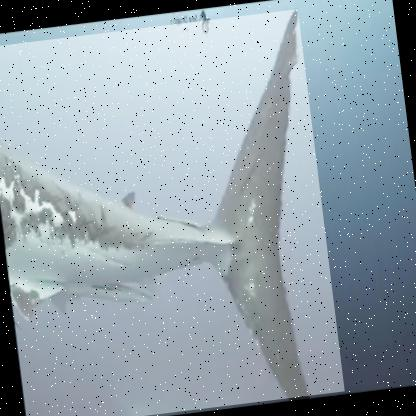white-shark: (0, 8, 344, 415)
